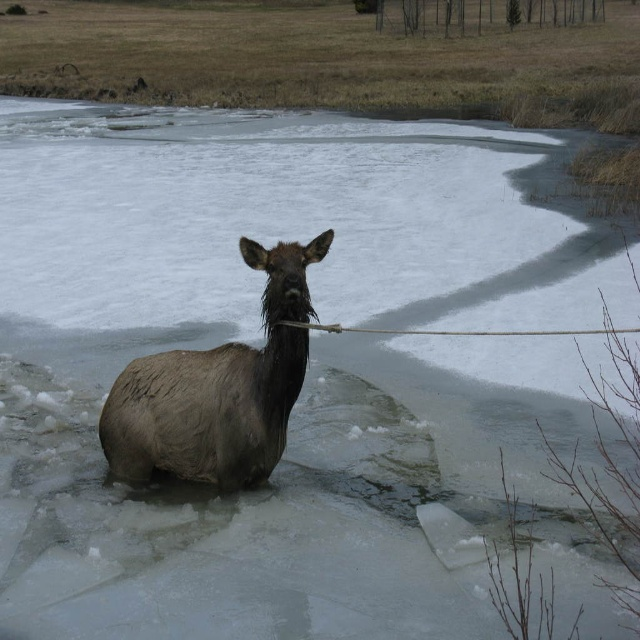Deer: (98, 230, 334, 500)
